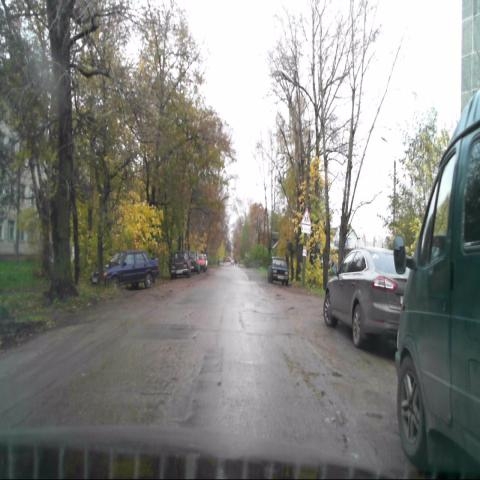1_23: (301, 208, 311, 224)
